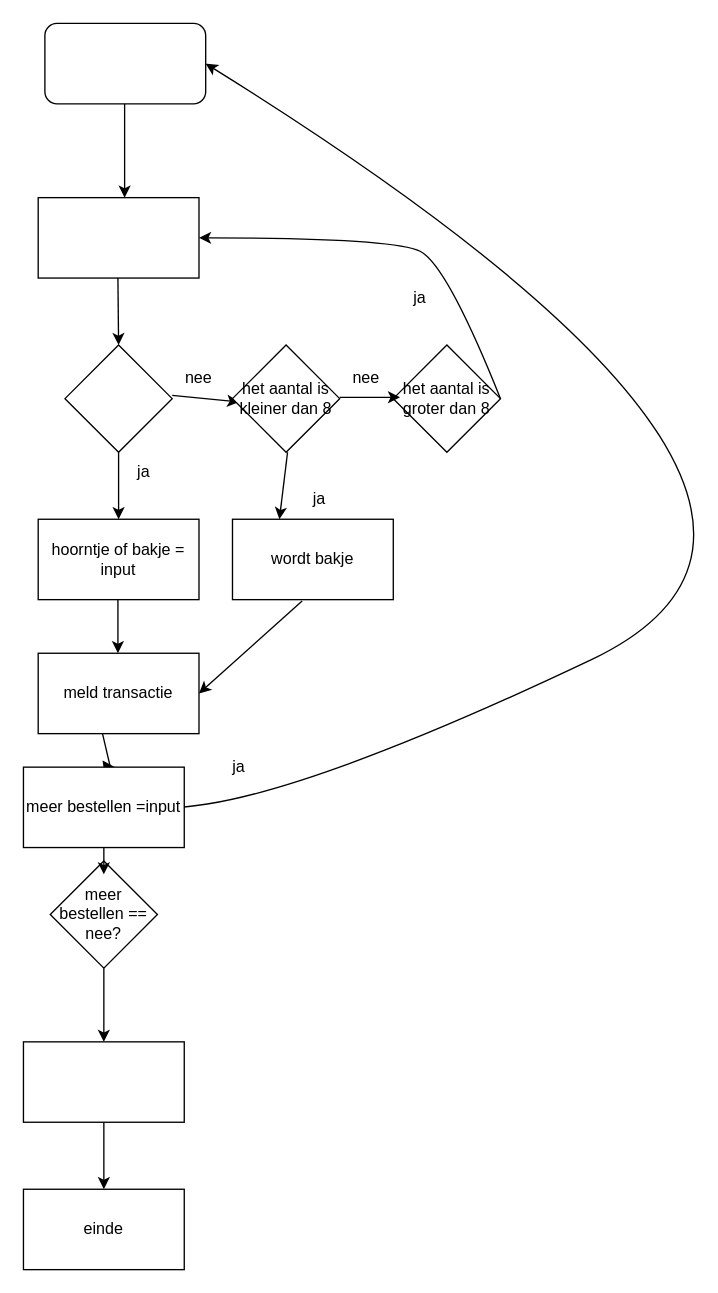
The diagram is 718 pixels wide and 1293 high, and some of its shapes have lost their labels. The shapes that lost their labels are listed below. From the top down, each one's centre as x and y in pixels, then its label:
At [125,63]: "start".
At [118,237]: "bolletjes = input".
At [118,398]: "het aantal is kleiner dan 3".
At [103,1081]: "bonnetje printen".
